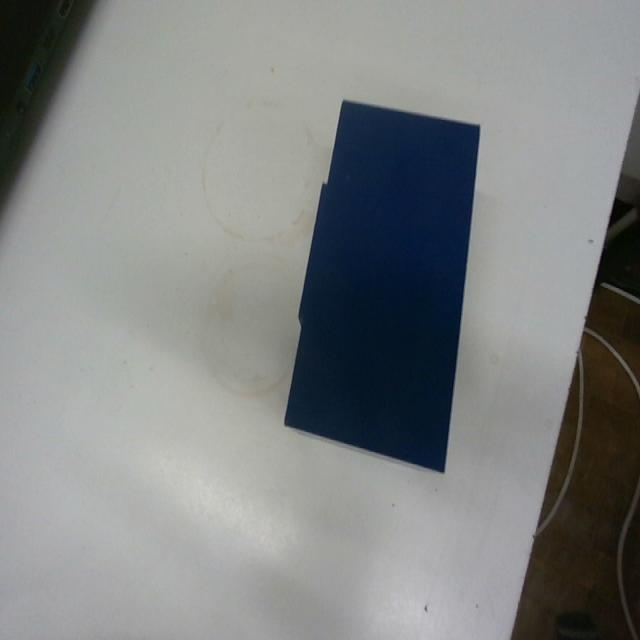Blue Cuboid: (281, 94, 482, 474)
